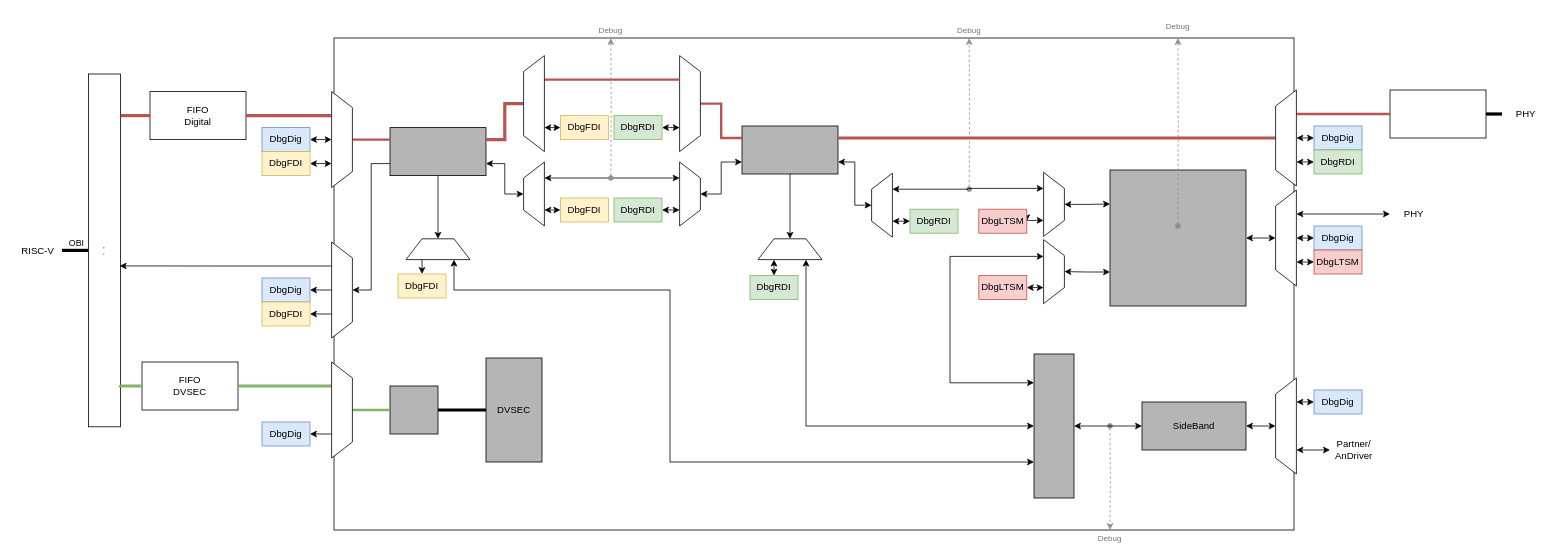
Image size: 1563x559. Some labels were removed from this diagram. The shapes that lost their labels are listed below. From the top down, each one's box as (x1, y1, x2, y2) in pixels, then its label:
(1389, 89, 1486, 138): FIFO Analog
(389, 127, 486, 176): FDI
(741, 125, 838, 174): RDI
(1109, 169, 1246, 306): LTSM
(389, 385, 438, 434): DVSEC Decoder
(1033, 353, 1074, 498): Arbitrer
